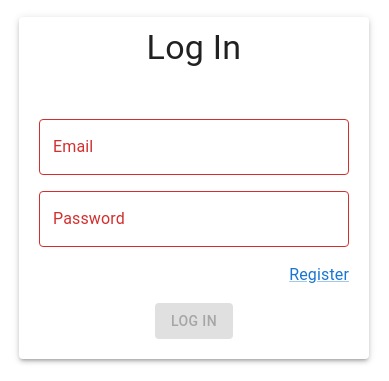
Test: The LoginPage component › can execute register method and go back to login layout
Switches to register layout
Click the link with test id "link-register".
click(319, 274)  # box [289,265,349,284]
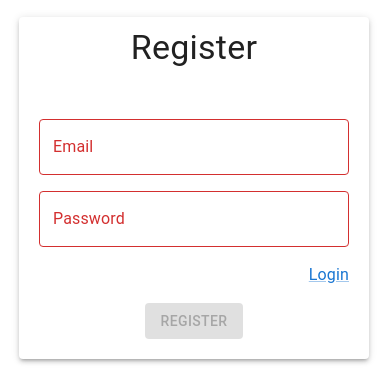
Fills the email
Type "test@test.com" into the field.
click(194, 147); type("test@test.com")  # box [39,119,349,175]
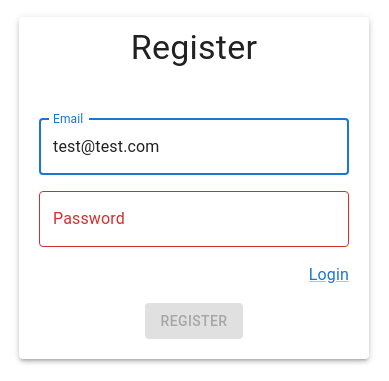
Fills the password
Type "password" into the password field named "native-input-password".
click(194, 219); type("password")  # box [39,191,349,247]
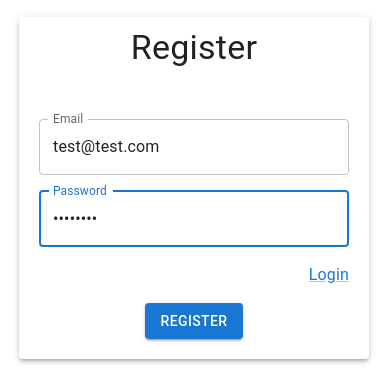
Click on the button to validate
Click the button with aria-label "btn-register".
click(194, 321)  # box [144,303,244,339]
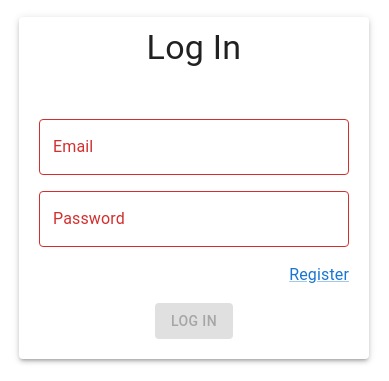
Expected: the element with test id "login-layout" is shown
